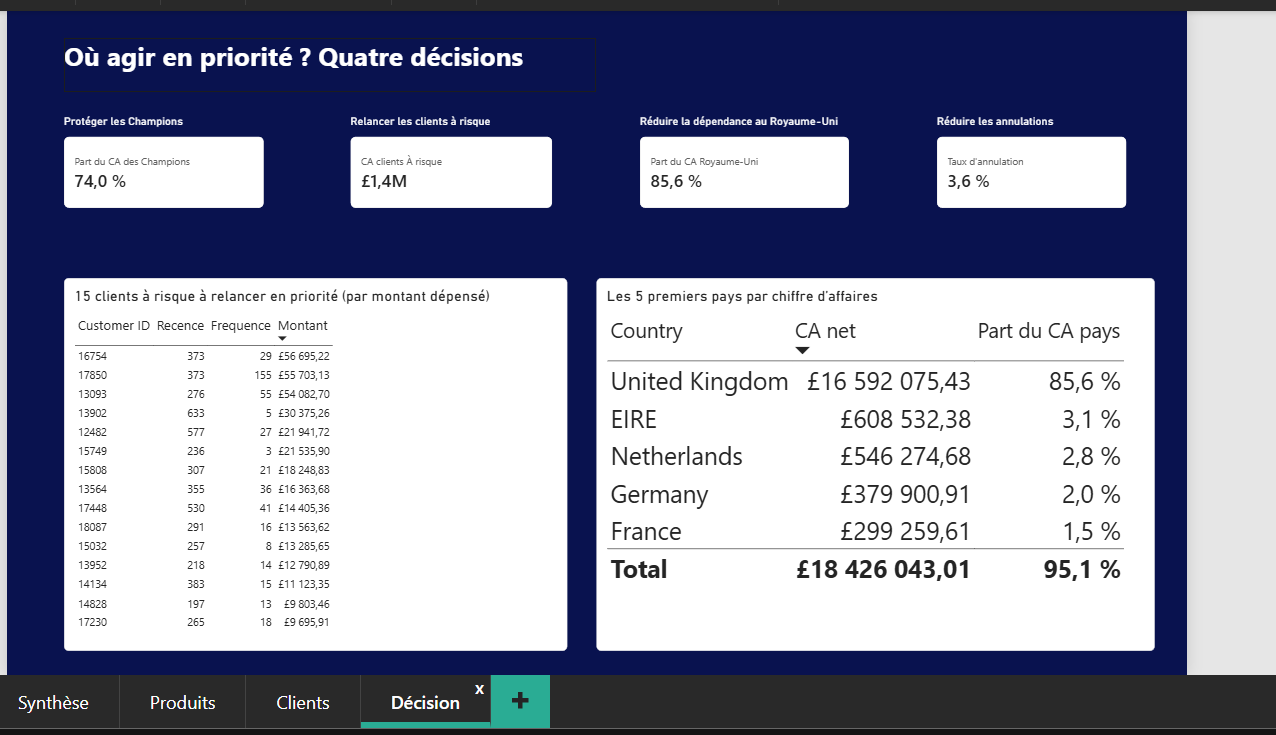

The page's visual inventory and layout, read from the dashboard file:
{"tool":"powerbi","page":{"name":"Décision","canvas":[1920,1080],"ordinal":3},"visuals":[{"type":"textbox","box":[92.6,44.8,866.4,86.6],"z":0},{"type":"tableEx","title":"Les 5 premiers pays par chiffre d’affaires","fields":{"Values":["DimPays.Country","DimDate.CA net","_Mesures.Part du CA pays"]},"box":[959,433.2,908.2,606.5],"z":1},{"type":"cardVisual","title":"Protéger les Champions","fields":{"Data":["_Mesures.Part du CA des Champions"]},"box":[92.6,167.3,325.6,152.4],"z":2},{"type":"cardVisual","title":"Relancer les clients à risque","fields":{"Data":["_Mesures.CA clients À risque (affichage)"]},"box":[559.7,167.4,328.6,152.4],"z":3},{"type":"cardVisual","title":"Réduire la dépendance au Royaume-Uni","fields":{"Data":["_Mesures.Part du CA Royaume-Uni"]},"box":[1029.7,167.6,340.6,152.4],"z":4},{"type":"cardVisual","title":"Réduire les annulations","fields":{"Data":["_Mesures.Taux d'annulation"]},"box":[1511.7,167.7,308,152],"z":5},{"type":"tableEx","title":"15 clients à risque à relancer en priorité (par montant dépensé)","fields":{"Values":["RFM.Customer ID","RFM.Recence","RFM.Frequence","RFM.Montant"]},"box":[92.6,433.2,818.6,606.5],"z":6}]}

Visuals, with their boxes on the page's 1920x1080 design canvas (x1, y1, x2, y2). These are canvas units, not pixel positions in the 1276x735 screenshot, which may show the page scaled, cropped or inside an application window:
textbox: left=93, top=45, right=959, bottom=131
"Les 5 premiers pays par chiffre d’affaires" tableEx: left=959, top=433, right=1867, bottom=1040
"Protéger les Champions" cardVisual: left=93, top=167, right=418, bottom=320
"Relancer les clients à risque" cardVisual: left=560, top=167, right=888, bottom=320
"Réduire la dépendance au Royaume-Uni" cardVisual: left=1030, top=168, right=1370, bottom=320
"Réduire les annulations" cardVisual: left=1512, top=168, right=1820, bottom=320
"15 clients à risque à relancer en priorité (par montant dépensé)" tableEx: left=93, top=433, right=911, bottom=1040
